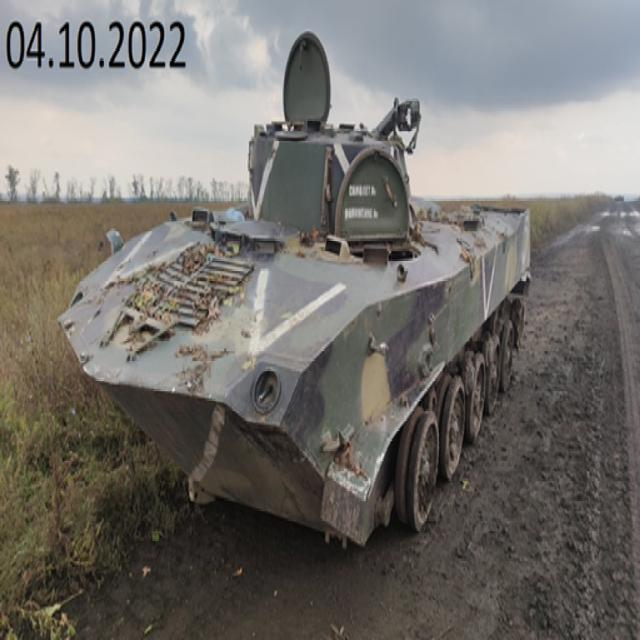APC-IFV: (55, 67, 533, 549)
